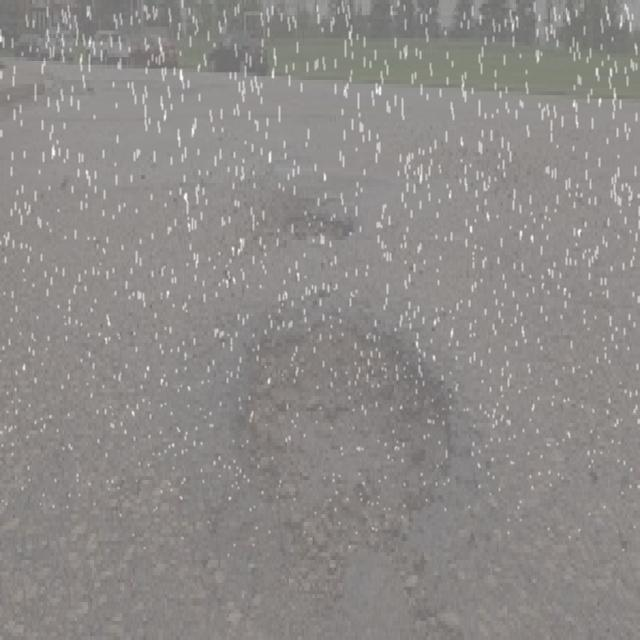Pothole: (228, 293, 477, 629), (273, 202, 352, 255)
